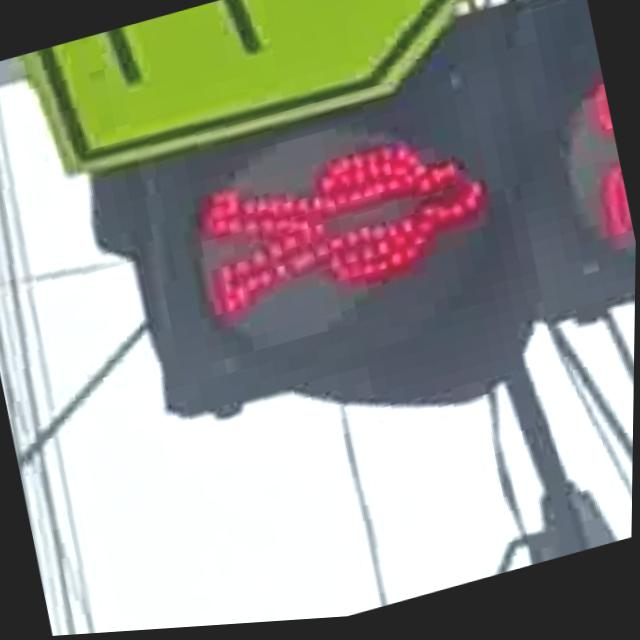red_light: (161, 98, 517, 361)
